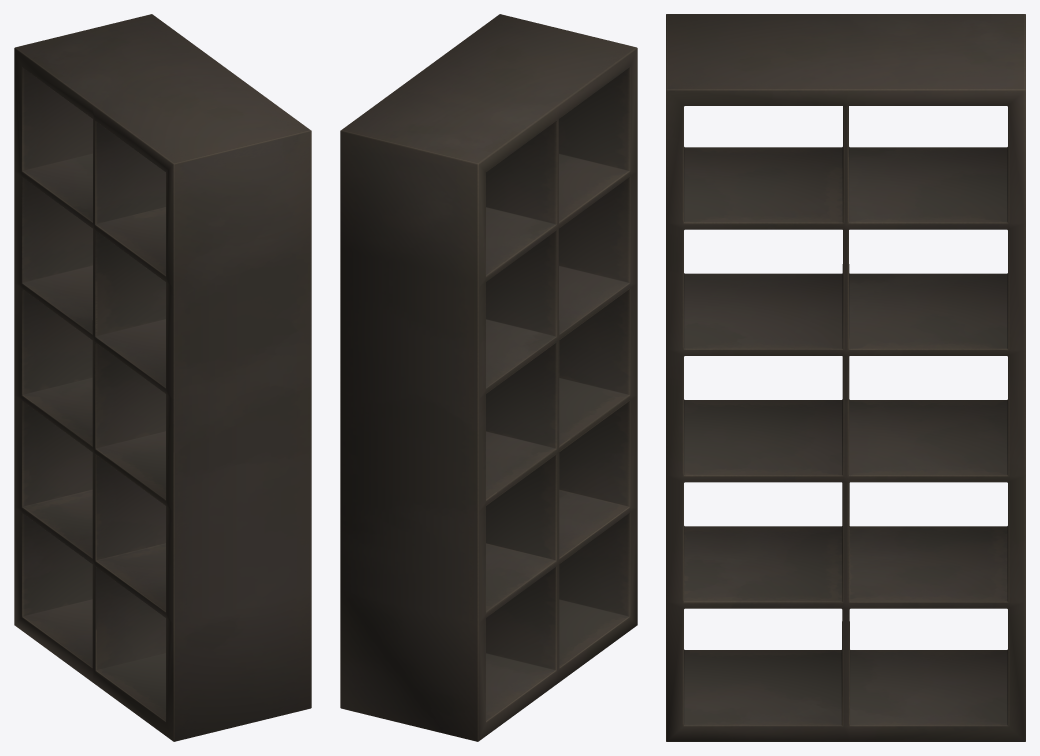
File: rack1.fbx
The picture shows the model from 3 angles, left to right: view 1: azimuth 30°, elevation 25°; view 2: azimuth 150°, elevation 25°; view 3: azimuth 270°, elevation 25°; orthographic projection. The views are drawn at different scales.
Parts seen in each view (by area): view 1: rack_02; view 2: rack_02; view 3: rack_02.
Part boxes in pixels (<box>): rack_02: <box>14,14,311,741</box>; rack_02: <box>340,14,637,741</box>; rack_02: <box>666,14,1025,741</box>.
Size of the model in its own units: 80.5 by 322 by 161.
1 material, 1 textured.
